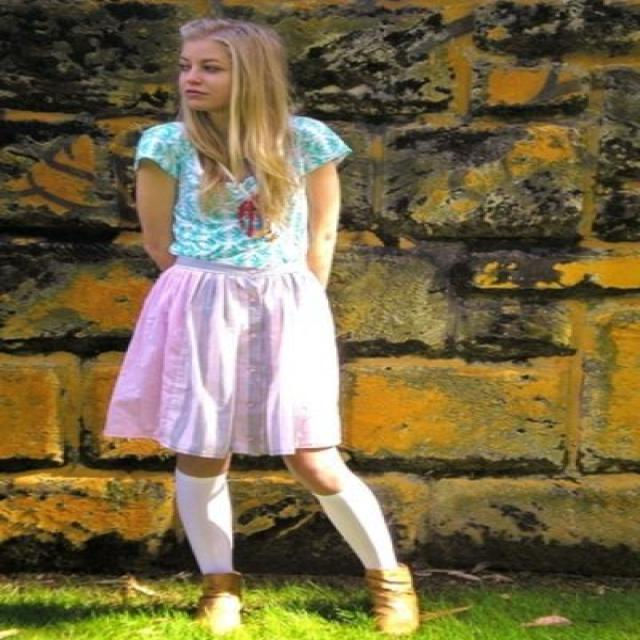shirt: (136, 117, 350, 286)
shoe: (196, 550, 414, 634)
skirt: (102, 264, 341, 472)
